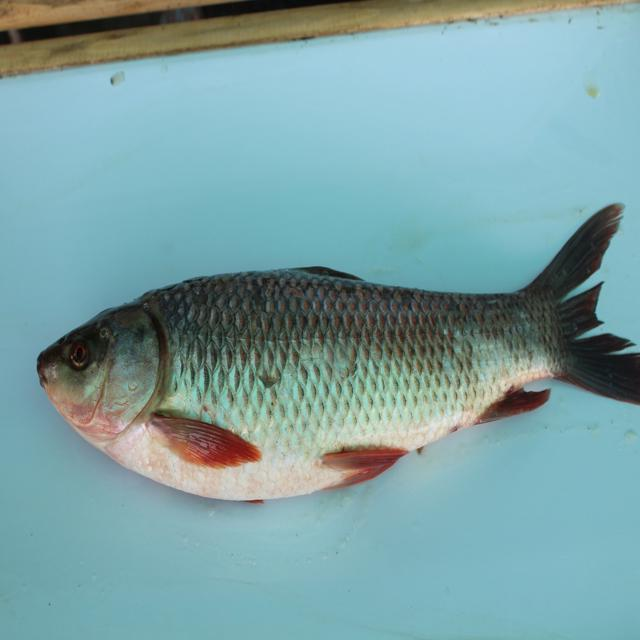Rohu: (31, 238, 640, 506)
